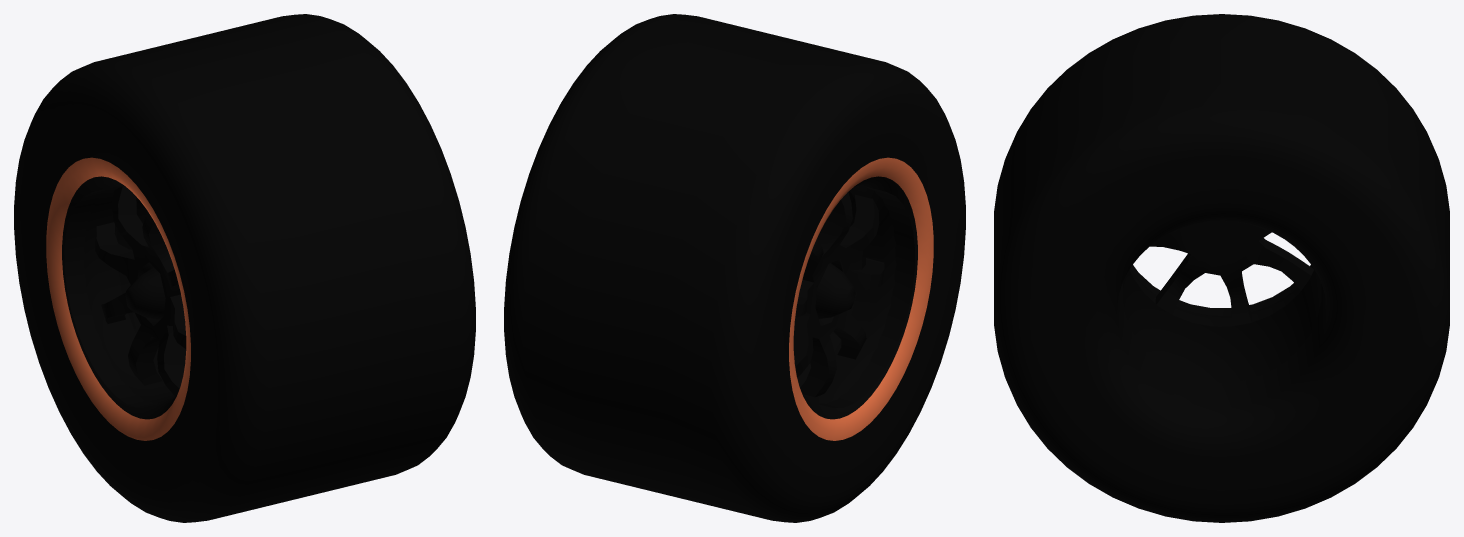
The model's file is Tyre_Back_Right.glb.
3 renders of one model, left to right at view 1: azimuth 30°, elevation 25°; view 2: azimuth 150°, elevation 25°; view 3: azimuth 270°, elevation 25°, orthographic. The views are drawn at different scales.
Parts seen in each view (by area): view 1: Tyre_Back_Right-Tire, Rim_Back_Right, Tyre_Back_Right-Red; view 2: Tyre_Back_Right-Tire, Rim_Back_Right, Tyre_Back_Right-Red; view 3: Tyre_Back_Right-Tire, Rim_Back_Right.
Boxes of the visible parts, x1,y1,x2,y2 form: Tyre_Back_Right-Tire: (14, 14, 475, 522); Rim_Back_Right: (64, 186, 186, 407); Tyre_Back_Right-Red: (46, 157, 190, 440); Tyre_Back_Right-Tire: (504, 14, 965, 522); Rim_Back_Right: (793, 187, 914, 407); Tyre_Back_Right-Red: (789, 157, 933, 440); Tyre_Back_Right-Tire: (994, 14, 1449, 522); Rim_Back_Right: (1122, 221, 1321, 382).
Bounding box in the file's own units: 46 × 74 × 73.85.
